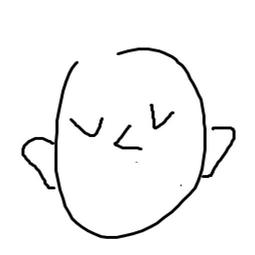closed_eye: (65, 112, 107, 140), (144, 99, 176, 132)
ear: (17, 136, 62, 192), (199, 123, 237, 181)
pointy_nose: (113, 119, 145, 157)
